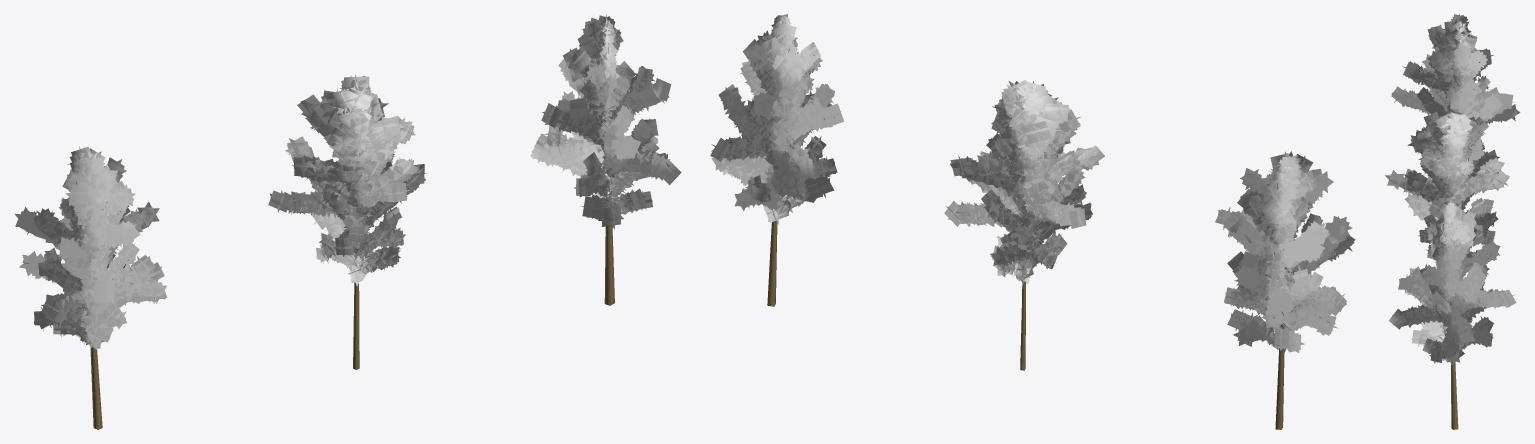
File: Birch Trees Test A.fbx
3 views of the same model, side by side, from view 1: azimuth 30°, elevation 25°; view 2: azimuth 150°, elevation 25°; view 3: azimuth 270°, elevation 25° (orthographic). The views are drawn at different scales.
Parts seen in each view (by area): view 1: leaf.050, leaf.049, leaf.051, tree.089, tree.086; view 2: leaf.049, leaf.050, leaf.051, tree.089, tree.086; view 3: leaf.051, leaf.050, leaf.049, tree.089.
Boxes of the visible parts, x1=… form: leaf.050: x1=268, y1=75, x2=427, y2=286; leaf.049: x1=14, y1=146, x2=167, y2=349; leaf.051: x1=530, y1=14, x2=681, y2=229; tree.089: x1=548, y1=37, x2=667, y2=305; tree.086: x1=22, y1=181, x2=136, y2=429; leaf.049: x1=1215, y1=151, x2=1355, y2=352; leaf.050: x1=944, y1=80, x2=1104, y2=285; leaf.051: x1=710, y1=14, x2=843, y2=224; tree.089: x1=728, y1=38, x2=834, y2=306; tree.086: x1=1231, y1=182, x2=1329, y2=429; leaf.051: x1=1389, y1=199, x2=1516, y2=365; leaf.050: x1=1385, y1=110, x2=1509, y2=259; leaf.049: x1=1391, y1=14, x2=1520, y2=164; tree.089: x1=1399, y1=217, x2=1468, y2=429.
Bounding box in the file's own units: 2447 × 1097 × 593.
